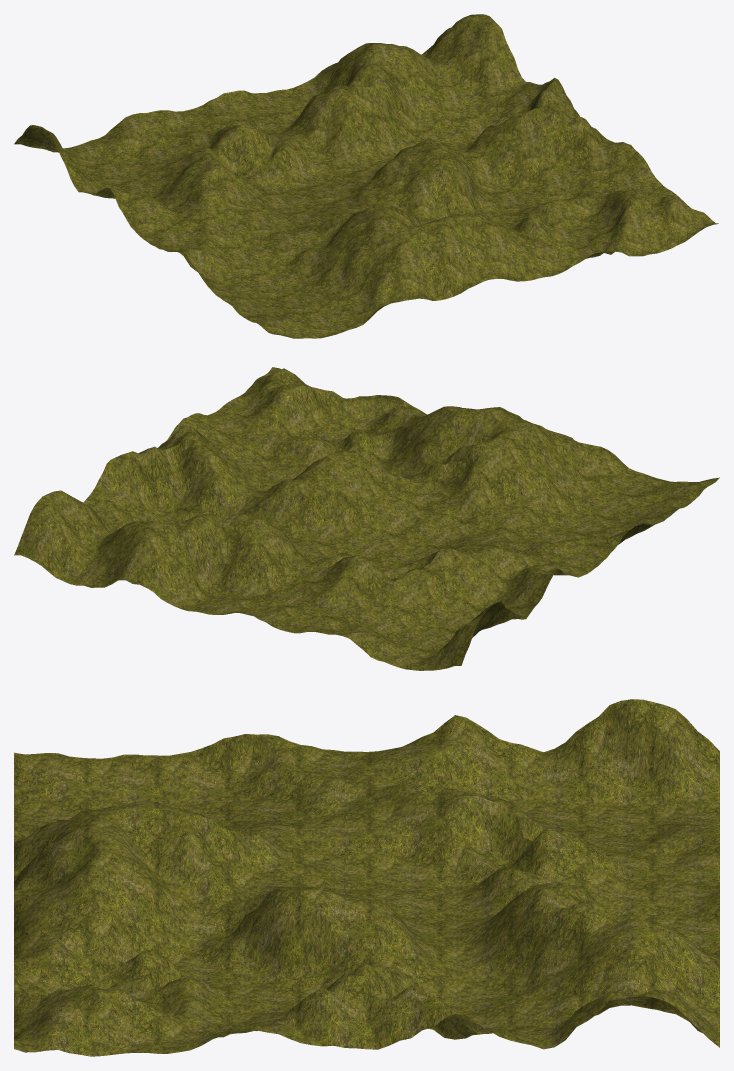
File: terrain.fbx
3 renders of one model, top to bottom at view 1: azimuth 30°, elevation 25°; view 2: azimuth 150°, elevation 25°; view 3: azimuth 270°, elevation 25°, orthographic. The views are drawn at different scales.
Parts seen in each view (by area): view 1: Plane01; view 2: Plane01; view 3: Plane01.
Part boxes in pixels (left/top/right/bottom): Plane01: left=14, top=14, right=718, bottom=338; Plane01: left=14, top=367, right=719, bottom=670; Plane01: left=14, top=699, right=719, bottom=1056.
Size of the model in its own units: 500 by 63.5 by 500.
1 material, 1 textured.
